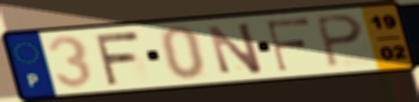0: (158, 24, 211, 83)
3: (46, 33, 97, 91)
F: (91, 29, 142, 87), (264, 16, 313, 73)
N: (205, 20, 266, 76)
P: (313, 13, 367, 70)
